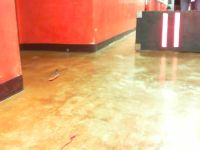switch: (173, 12, 181, 48), (161, 13, 169, 48)
